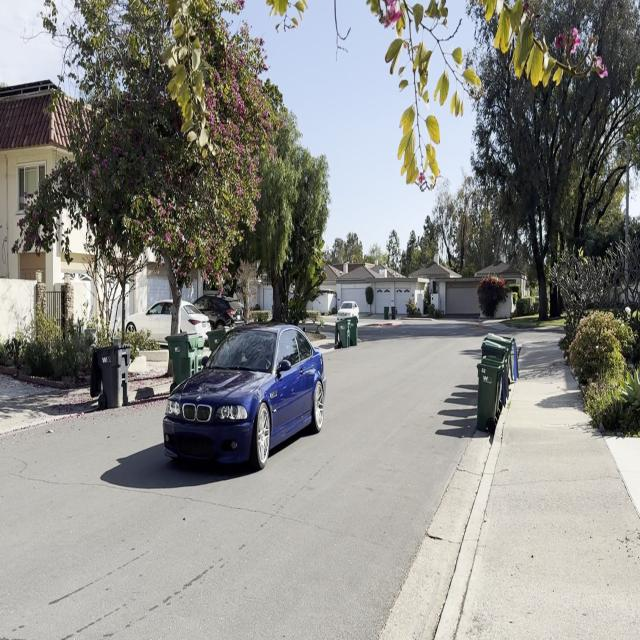Carbeetle: (156, 314, 332, 487)
